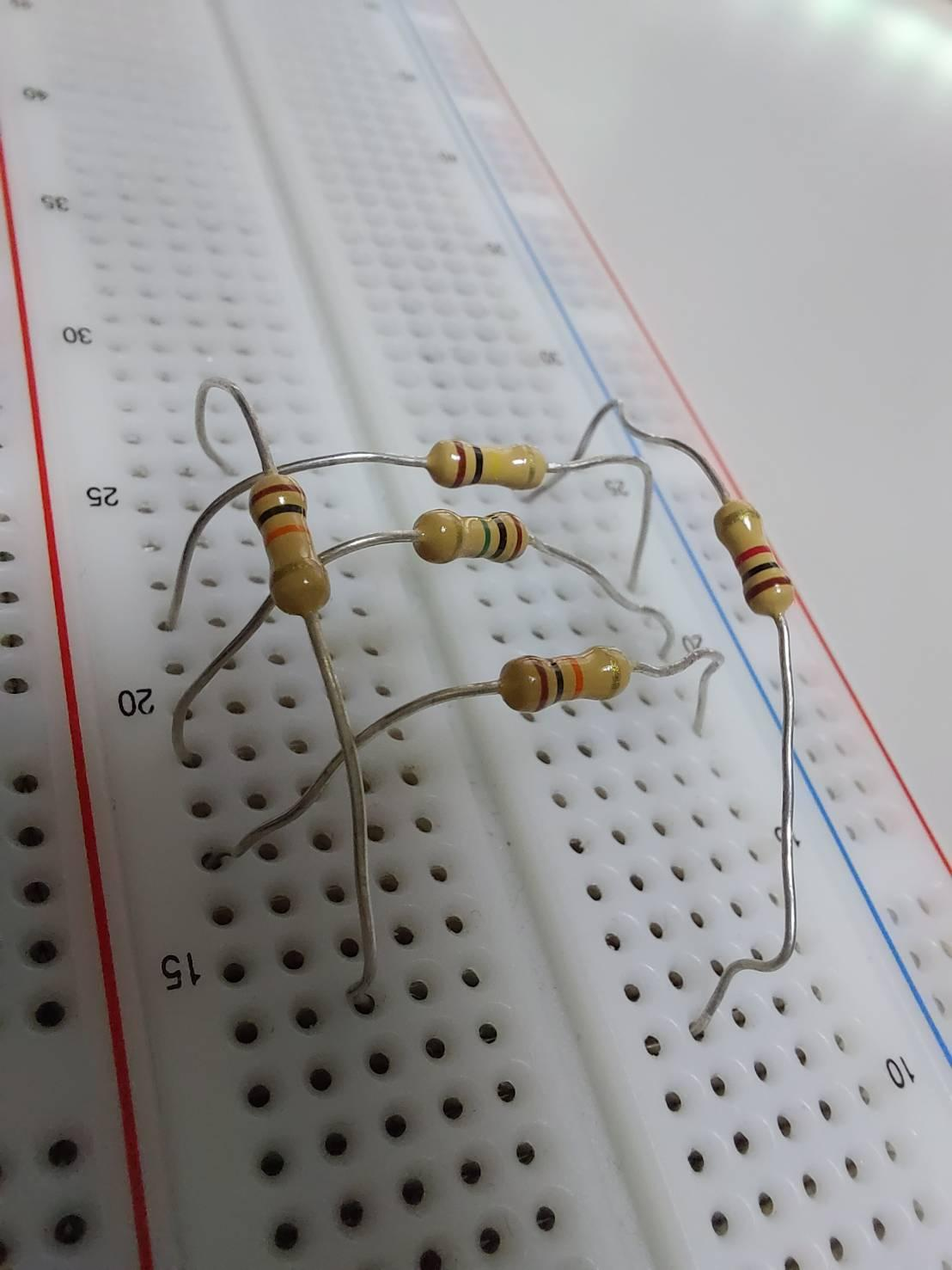resistor: (244, 461, 342, 621), (706, 500, 796, 619), (498, 645, 644, 712), (418, 432, 555, 500), (409, 509, 524, 569)
